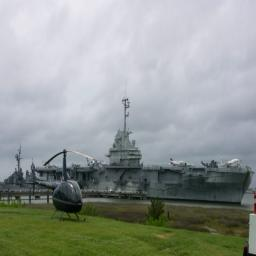Portanaves: (42, 92, 256, 212)
